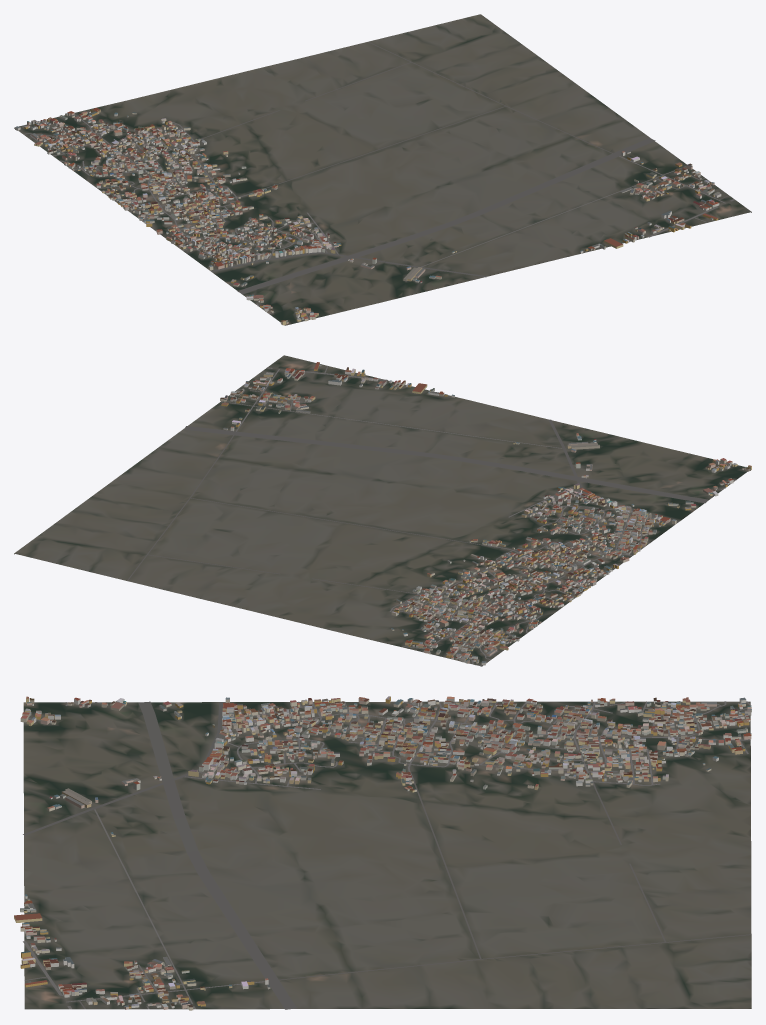
The picture shows the model from 3 angles, top to bottom: view 1: azimuth 30°, elevation 25°; view 2: azimuth 150°, elevation 25°; view 3: azimuth 270°, elevation 25°; orthographic projection. The views are drawn at different scales.
Parts seen in each view (by area): view 1: ground, buildings, roads; view 2: ground, buildings, roads; view 3: ground, buildings, roads.
Part boxes in pixels (<box>): ground: <box>14,14,751,325</box>; buildings: <box>15,108,721,325</box>; roads: <box>19,41,734,319</box>; ground: <box>14,355,747,666</box>; buildings: <box>220,362,751,665</box>; roads: <box>127,366,736,665</box>; ground: <box>23,701,751,1009</box>; buildings: <box>14,696,751,1010</box>; roads: <box>23,701,751,1009</box>.
Bounding box in the file's own units: 1413 × 19.33 × 1423.
